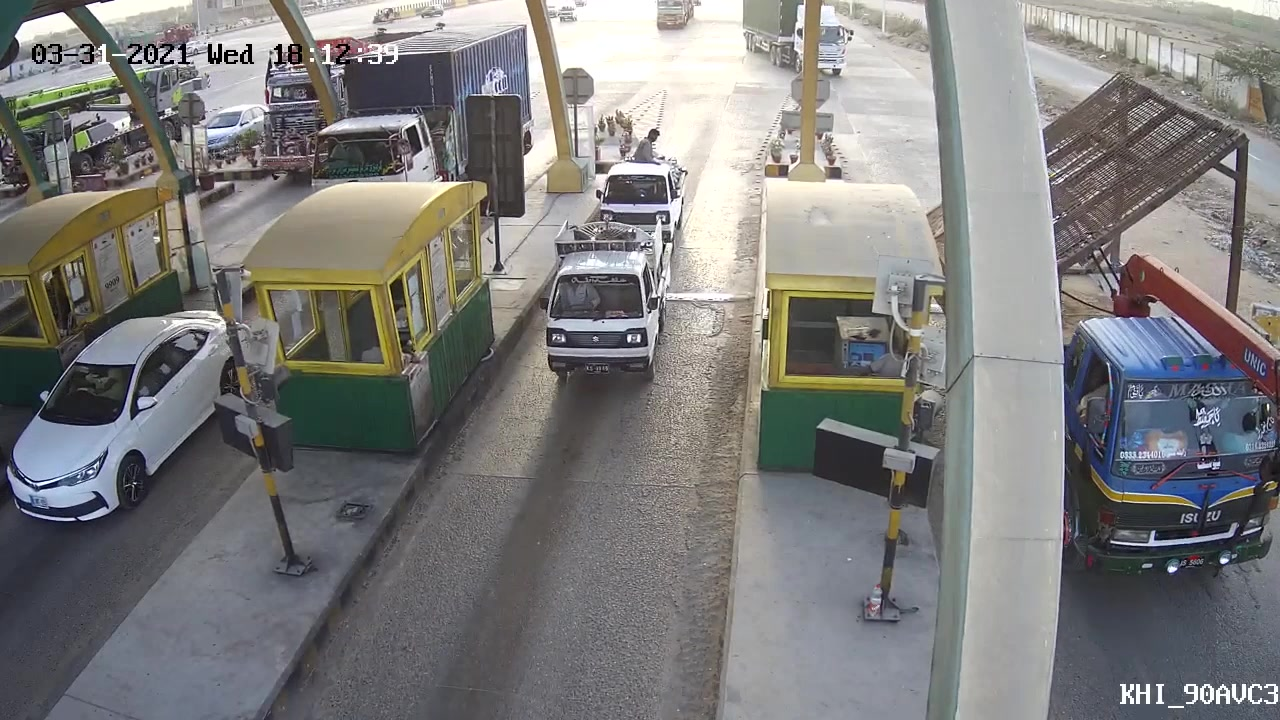F2: (530, 226, 668, 387)
